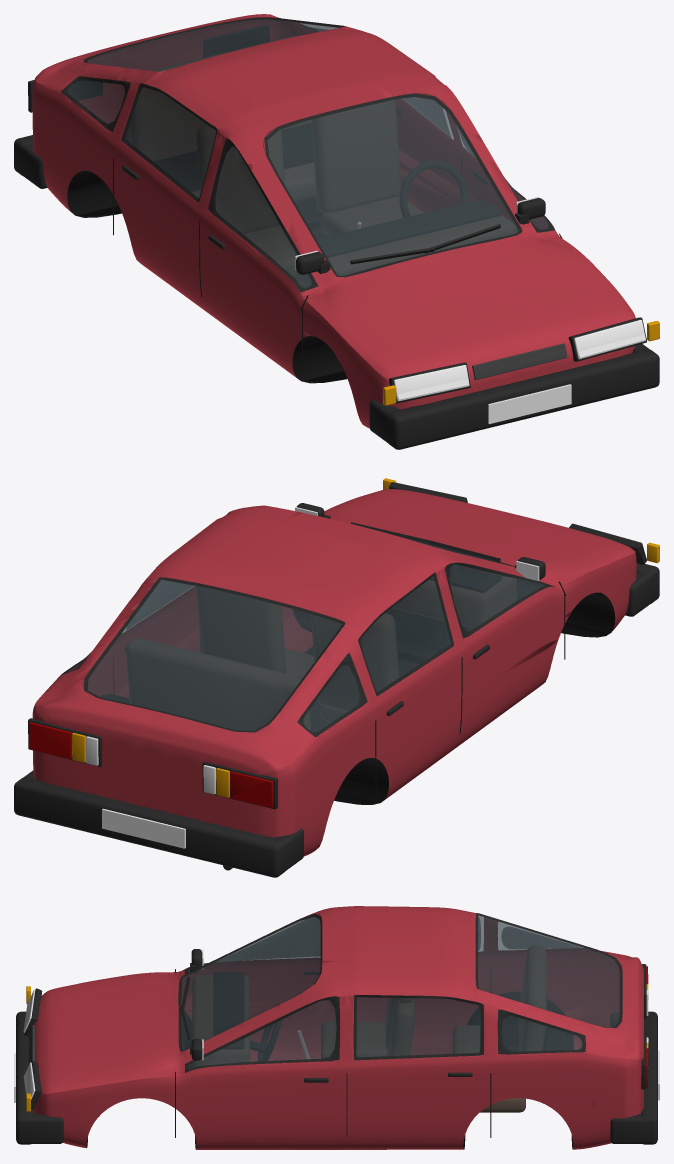
The model's file is vaz2109.glb.
3 views of the same model, one above another, from view 1: azimuth 30°, elevation 25°; view 2: azimuth 150°, elevation 25°; view 3: azimuth 270°, elevation 25° (orthographic). The views are drawn at different scales.
Parts seen in each view (by area): view 1: LOD_hi, LOD0; view 2: LOD_hi, LOD0; view 3: LOD_hi, LOD0.
Part boxes in pixels (<box>): LOD_hi: <box>14,14,659,449</box>; LOD0: <box>26,15,659,423</box>; LOD_hi: <box>14,478,659,877</box>; LOD0: <box>25,478,659,847</box>; LOD_hi: <box>14,906,659,1149</box>; LOD0: <box>23,906,647,1149</box>.
Size of what is drawn, in the model's own units: 1.73 by 1.21 by 4.22.
